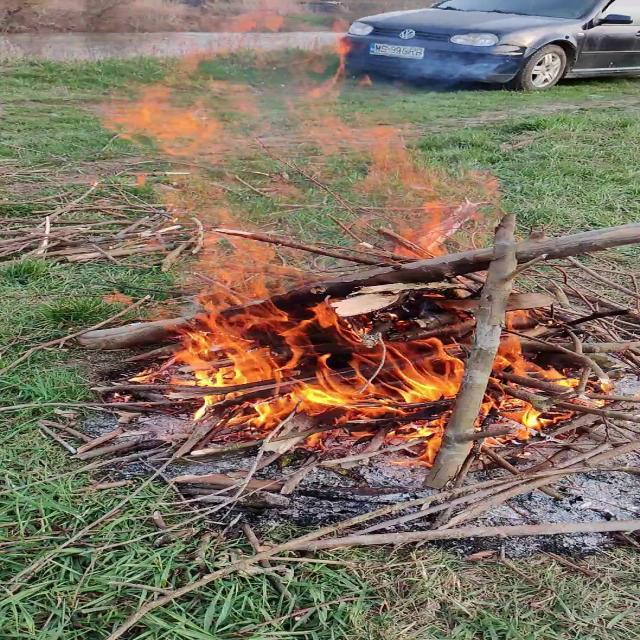Fire: (65, 46, 622, 467)
